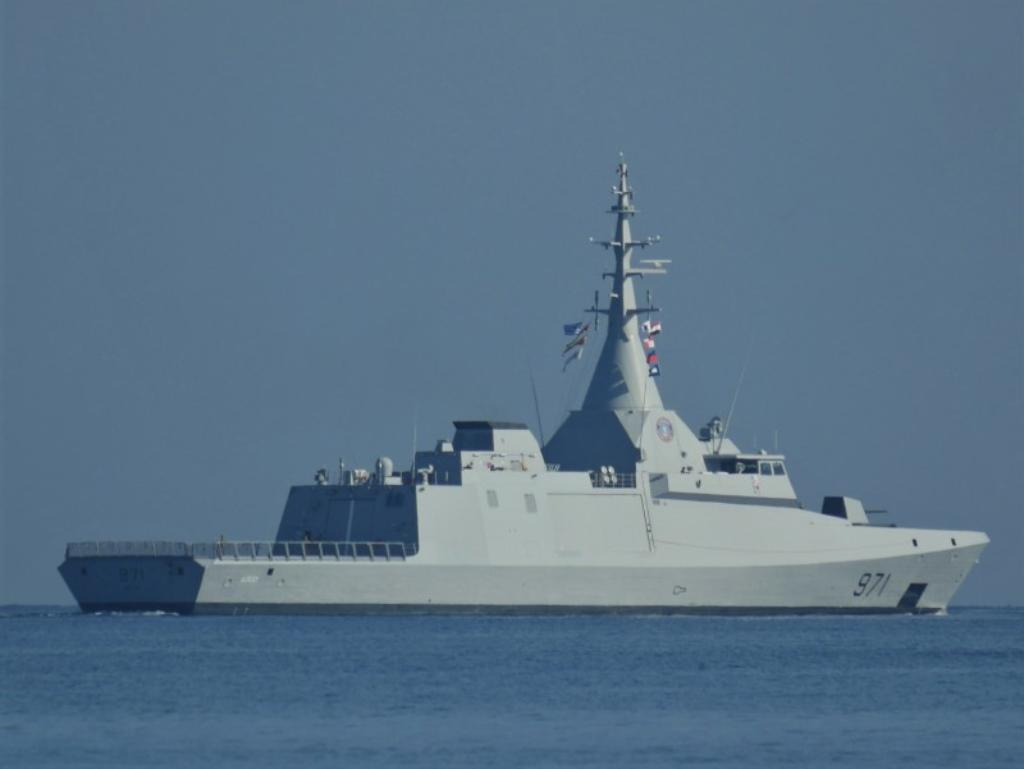Warship: (56, 155, 992, 618)
